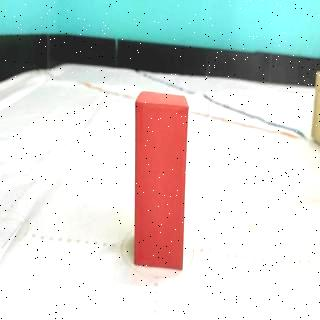redbox: (132, 90, 188, 272)
